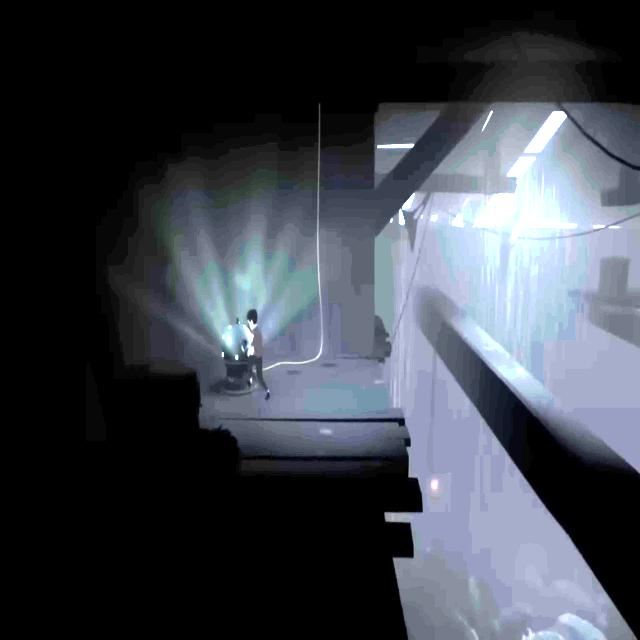boy: (238, 308, 267, 400)
